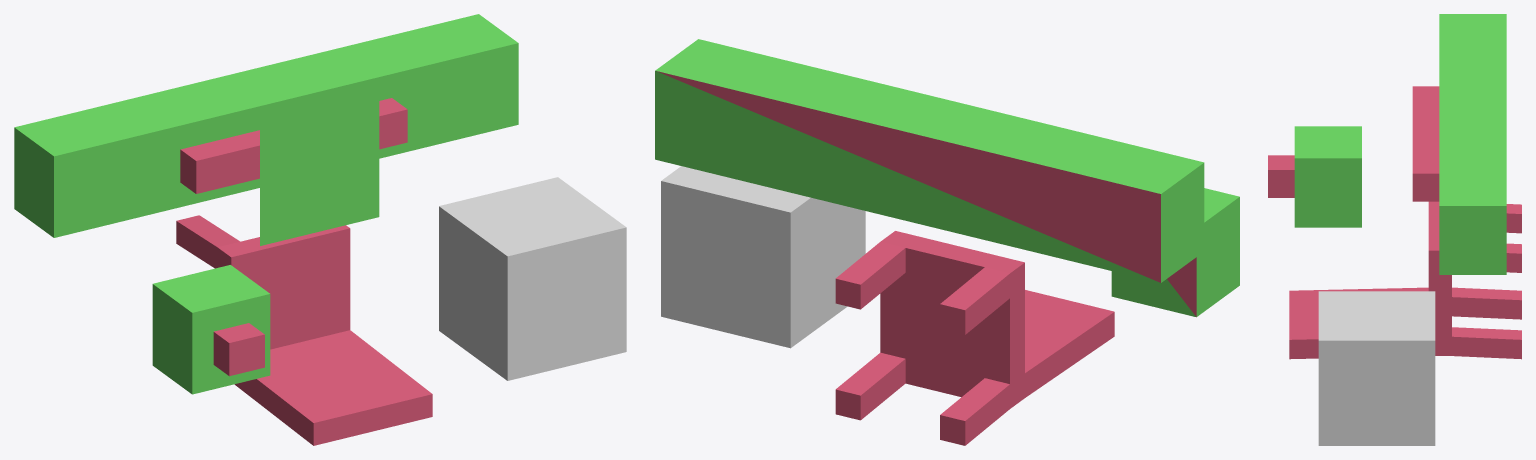
The picture shows the model from 3 angles, left to right: view 1: azimuth 30°, elevation 25°; view 2: azimuth 150°, elevation 25°; view 3: azimuth 270°, elevation 25°; orthographic projection. The views are drawn at different scales.
Visible parts, largest first — view 1: Cube, Cube.001, Chair, Simple, Cube2; view 2: Cube, Chair, Cube.001, Cube2; view 3: Cube, Cube.001, Chair, Cube2.
Part boxes in pixels (x1,y1,x2,y2): Cube: [14, 14, 518, 237]; Cube.001: [439, 177, 626, 380]; Chair: [176, 215, 432, 445]; Simple: [260, 92, 379, 245]; Cube2: [152, 265, 270, 394]; Cube: [655, 39, 1204, 282]; Chair: [835, 231, 1114, 445]; Cube.001: [661, 166, 865, 348]; Cube2: [1111, 188, 1239, 317]; Cube: [1412, 14, 1506, 274]; Cube.001: [1318, 291, 1435, 445]; Chair: [1289, 201, 1521, 359]; Cube2: [1268, 126, 1361, 227].
Bounding box in the file's own units: 8.42 × 4.8 × 4.36.
